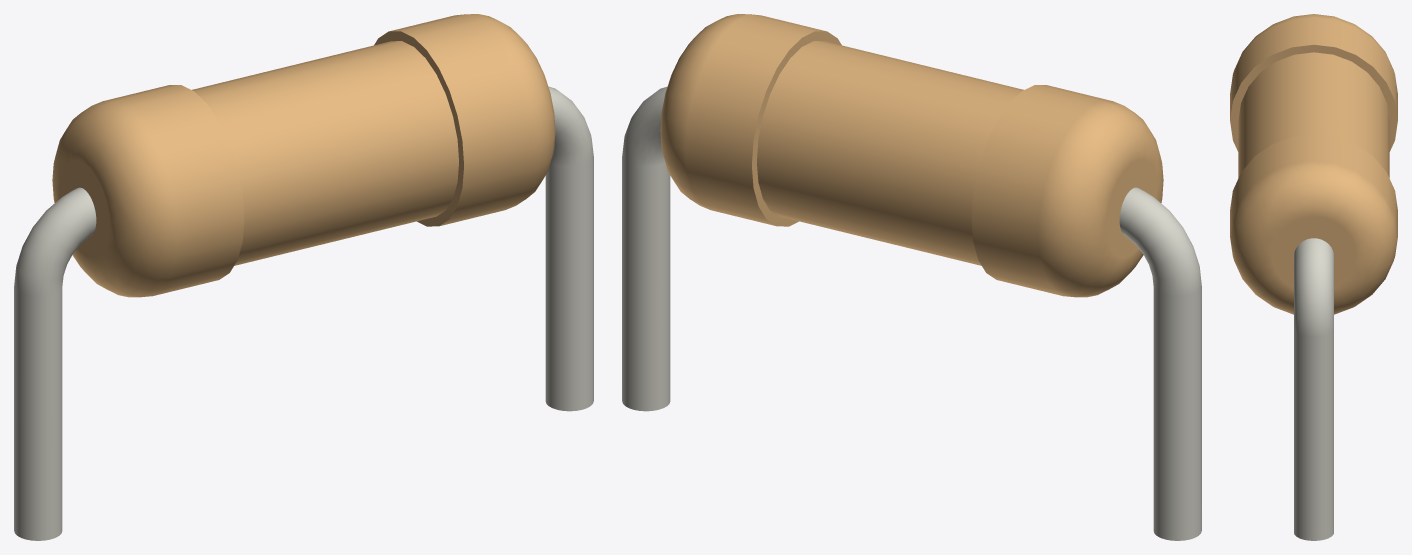
File: Resistor_THT__R_Axial_DIN0207_L6.3mm_D2.5mm_P7.62mm_Horizontal.glb
The picture shows the model from 3 angles, left to right: view 1: azimuth 30°, elevation 25°; view 2: azimuth 150°, elevation 25°; view 3: azimuth 270°, elevation 25°; orthographic projection. The views are drawn at different scales.
Visible parts, largest first — view 1: R_Axial_DIN0207_L63mm_D25mm_P762mm_Horizontal; view 2: R_Axial_DIN0207_L63mm_D25mm_P762mm_Horizontal; view 3: R_Axial_DIN0207_L63mm_D25mm_P762mm_Horizontal.
Part boxes in pixels (x1,y1,x2,y2): R_Axial_DIN0207_L63mm_D25mm_P762mm_Horizontal: (14,14,593,540); R_Axial_DIN0207_L63mm_D25mm_P762mm_Horizontal: (622,14,1201,540); R_Axial_DIN0207_L63mm_D25mm_P762mm_Horizontal: (1230,14,1397,540).
Bounding box in the file's own units: 0.00822 × 0.0055 × 0.0025.
